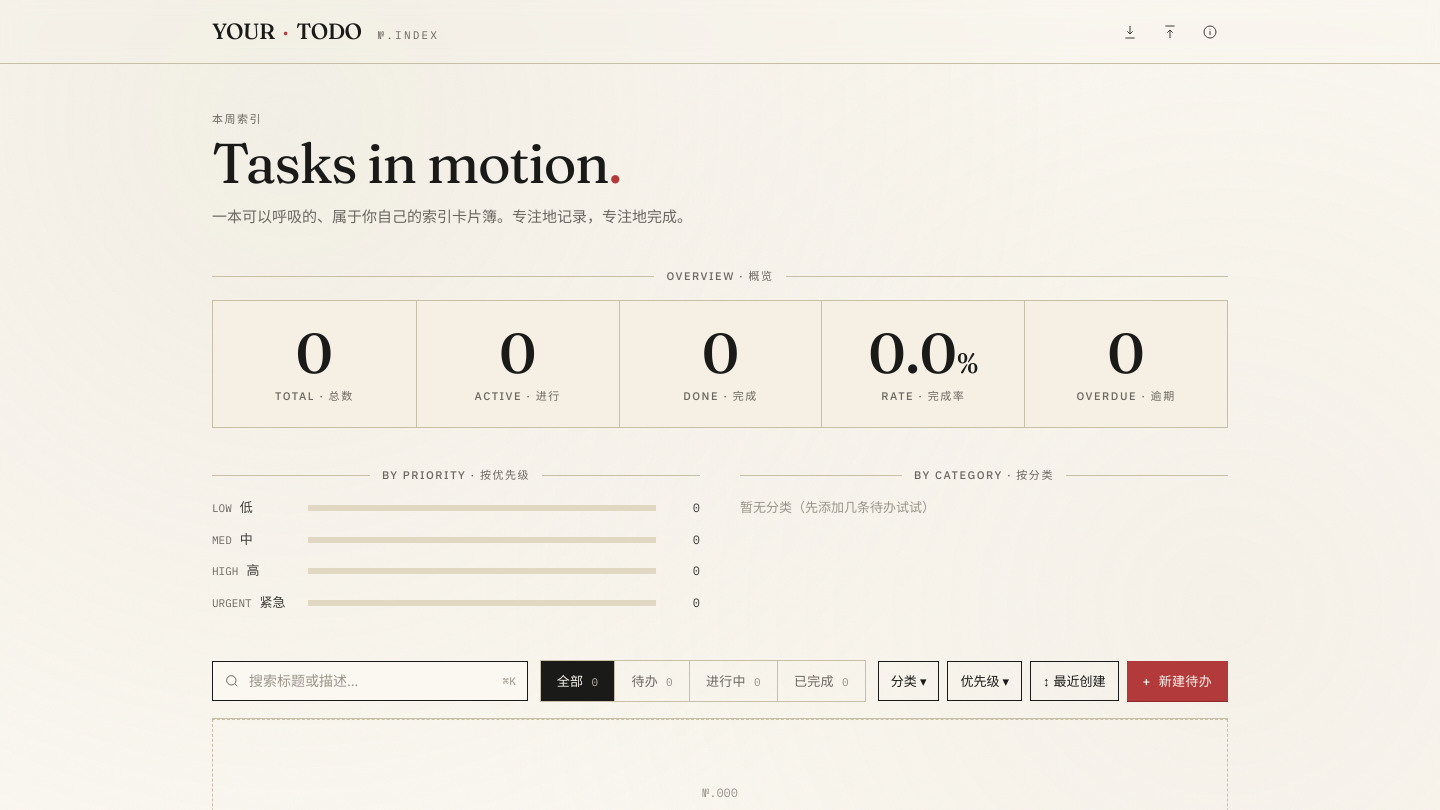
App integration — golden path › filters by status and shows the filtered empty state
Click the button "+ 新建待办".
click(1177, 681)  # box [1127, 661, 1228, 701]
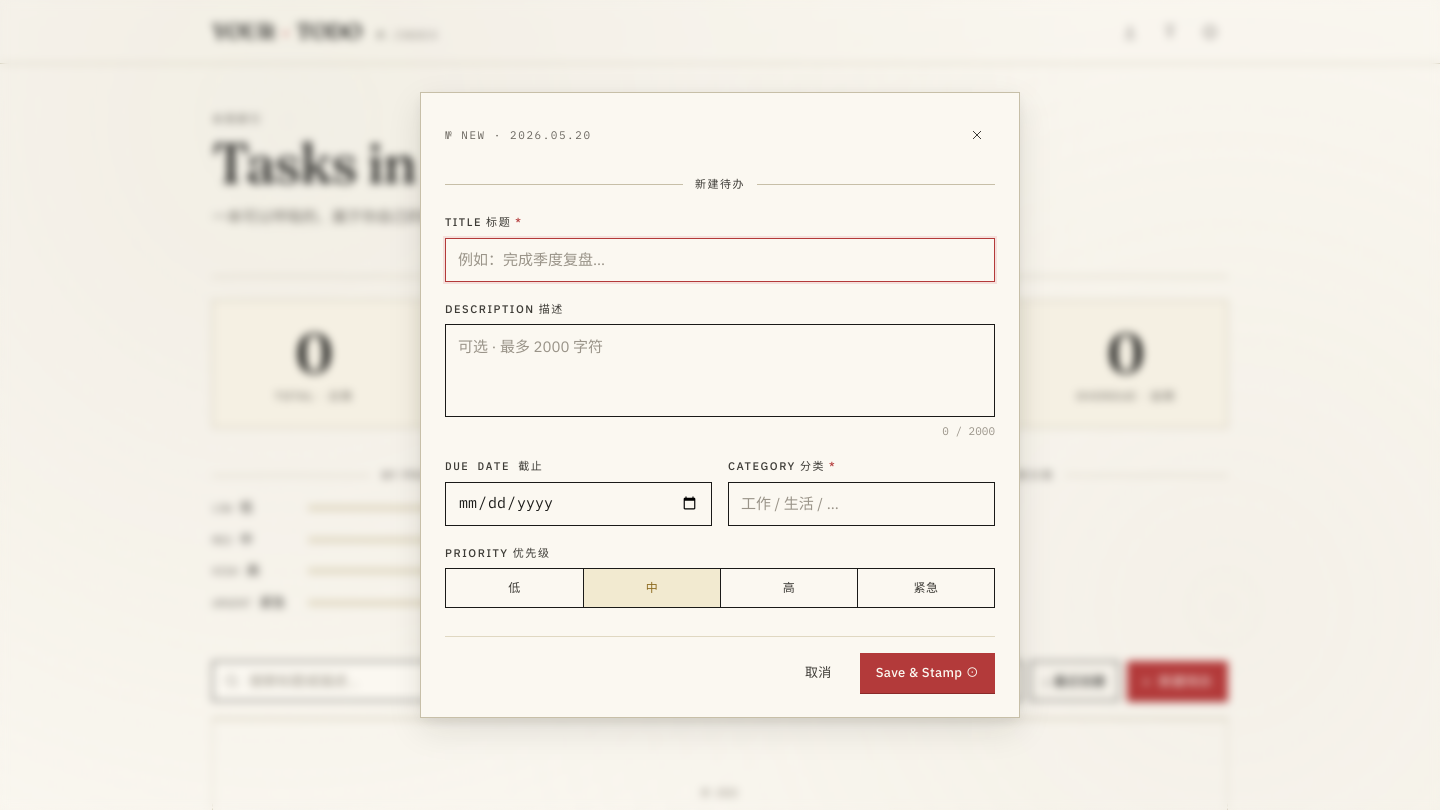
Type "写报告" into the field labelled "TITLE 标题*".
click(720, 260); type("写报告")  # box [445, 238, 995, 282]
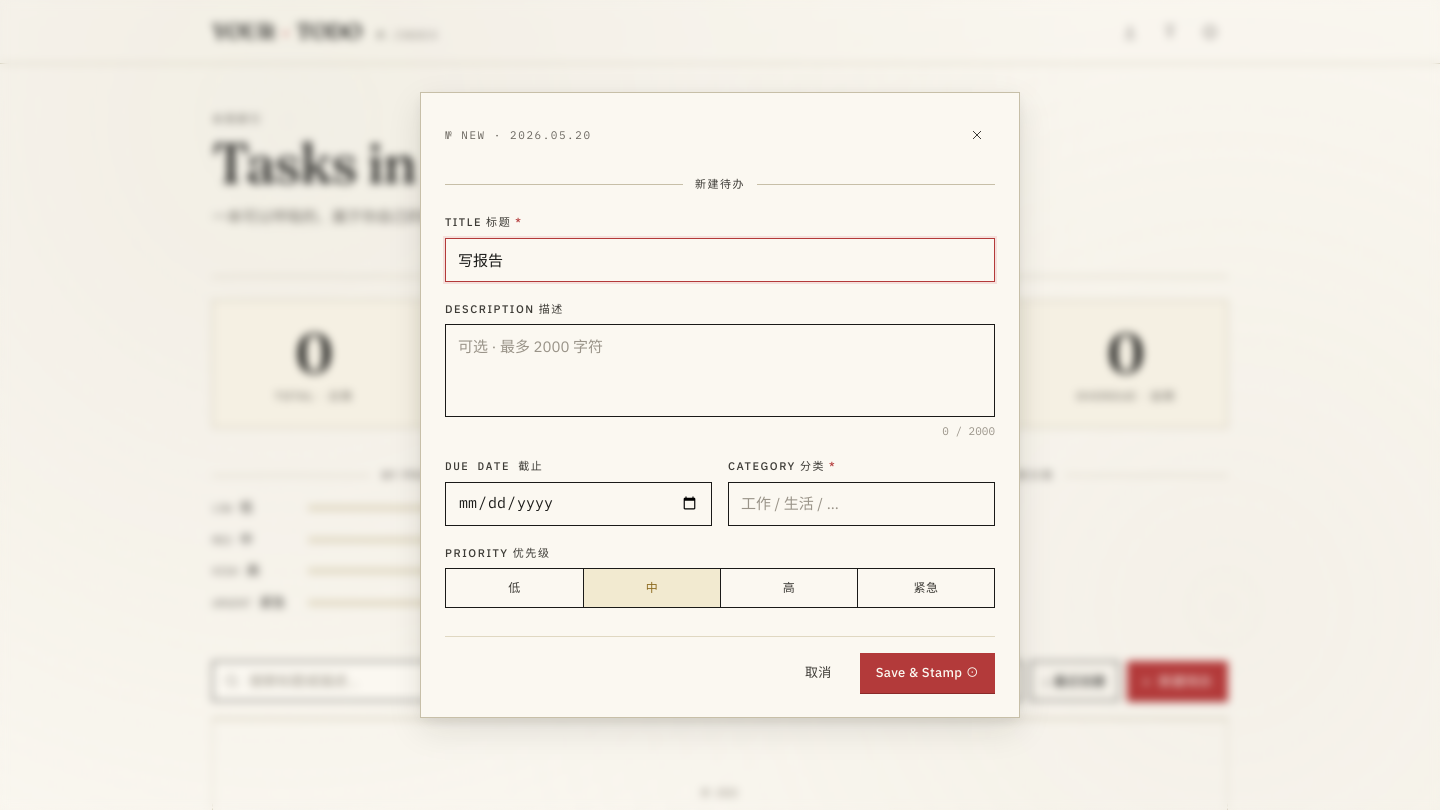
Type "工作" into the field labelled "CATEGORY 分类*".
click(862, 504); type("工作")  # box [728, 482, 995, 526]
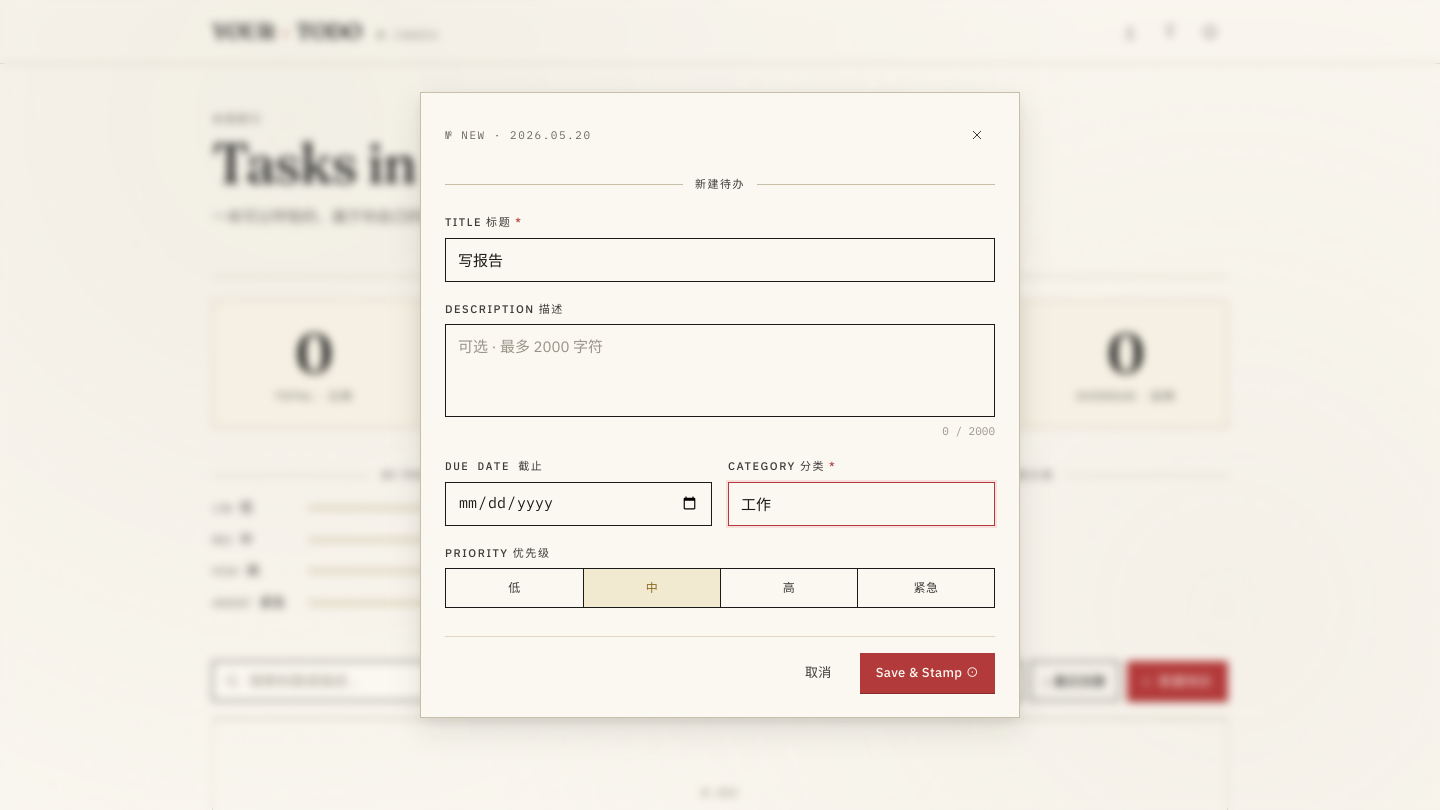
Click the button "Save & Stamp ⊙".
click(927, 673)  # box [860, 653, 995, 693]
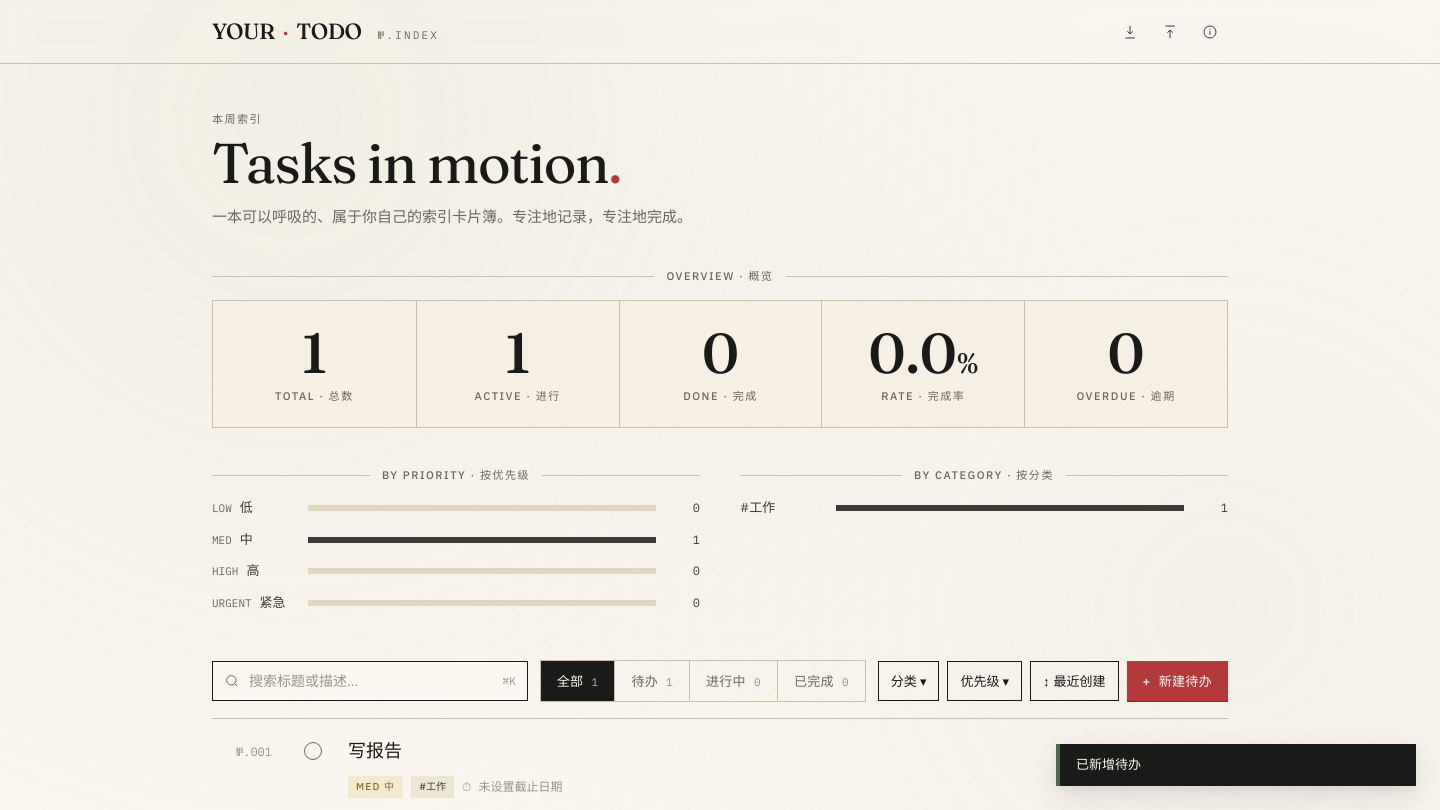
Click the tab "已完成0".
click(821, 681)  # box [777, 661, 865, 701]
(page scrolled)
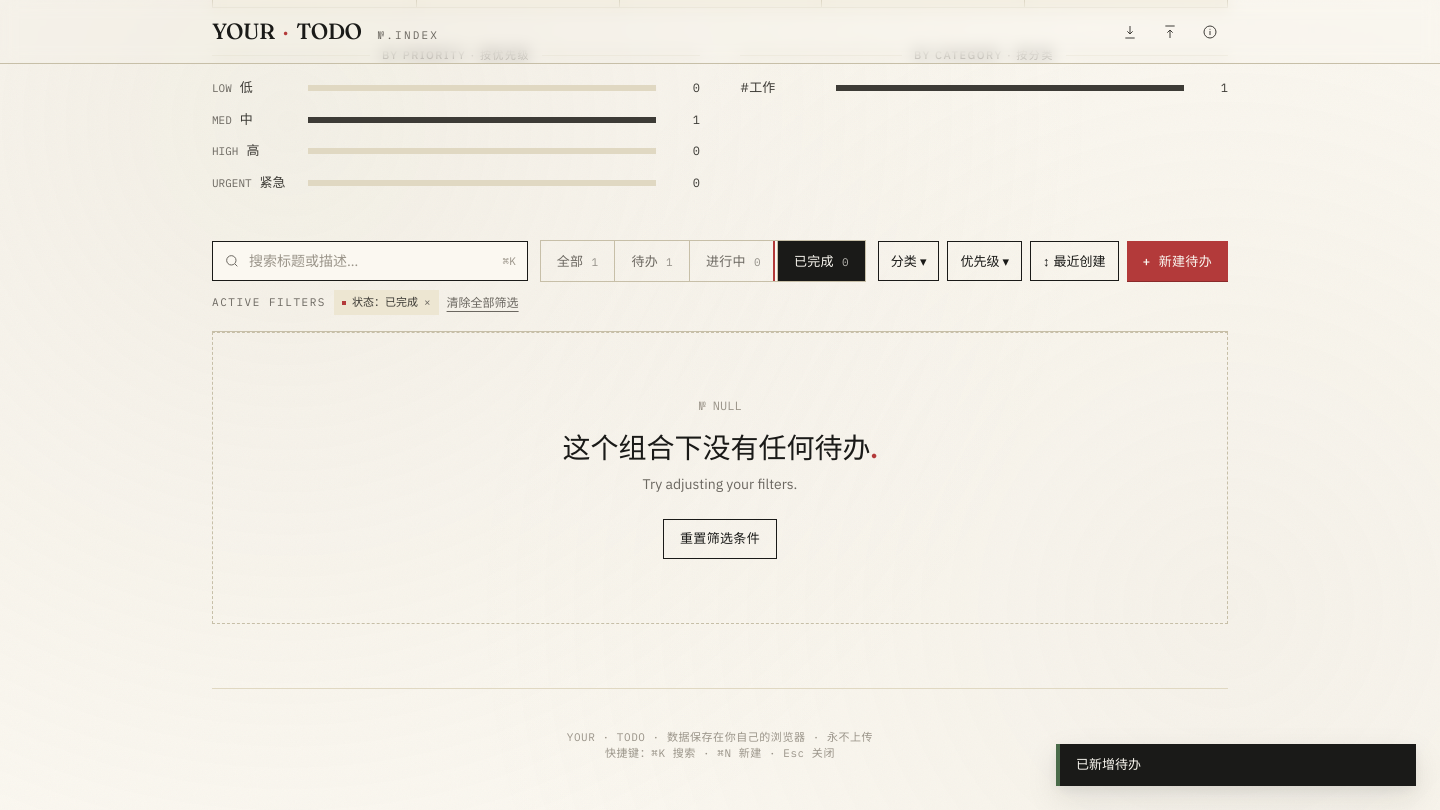
Check: the text "写报告" is gone
Check: the heading "这个组合下没有任何待办." is shown, box [562, 431, 878, 465]
Click the button "重置筛选条件".
click(720, 539)  # box [663, 519, 777, 559]
(page scrolled)
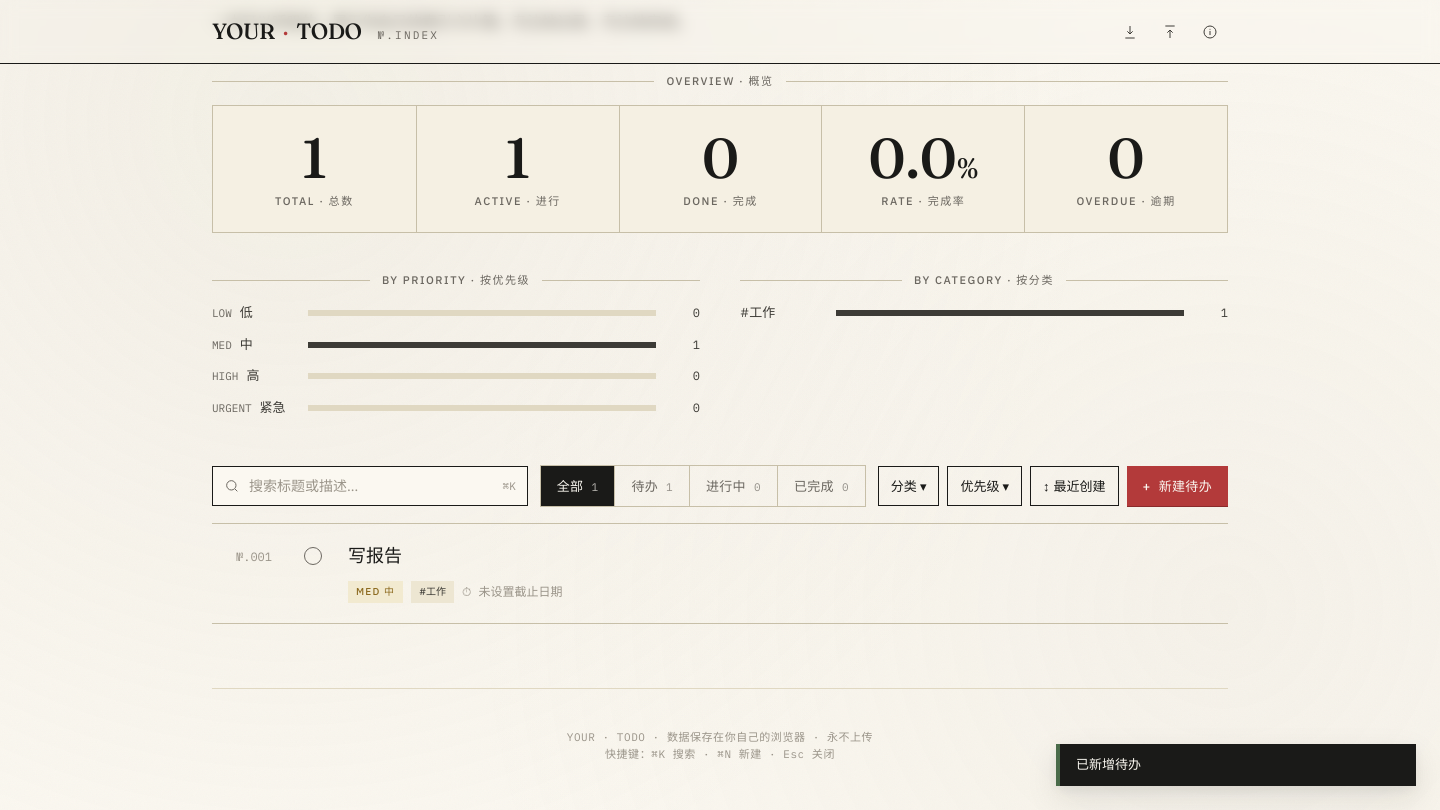
Check: the text "写报告" is shown, box [348, 544, 402, 567]
